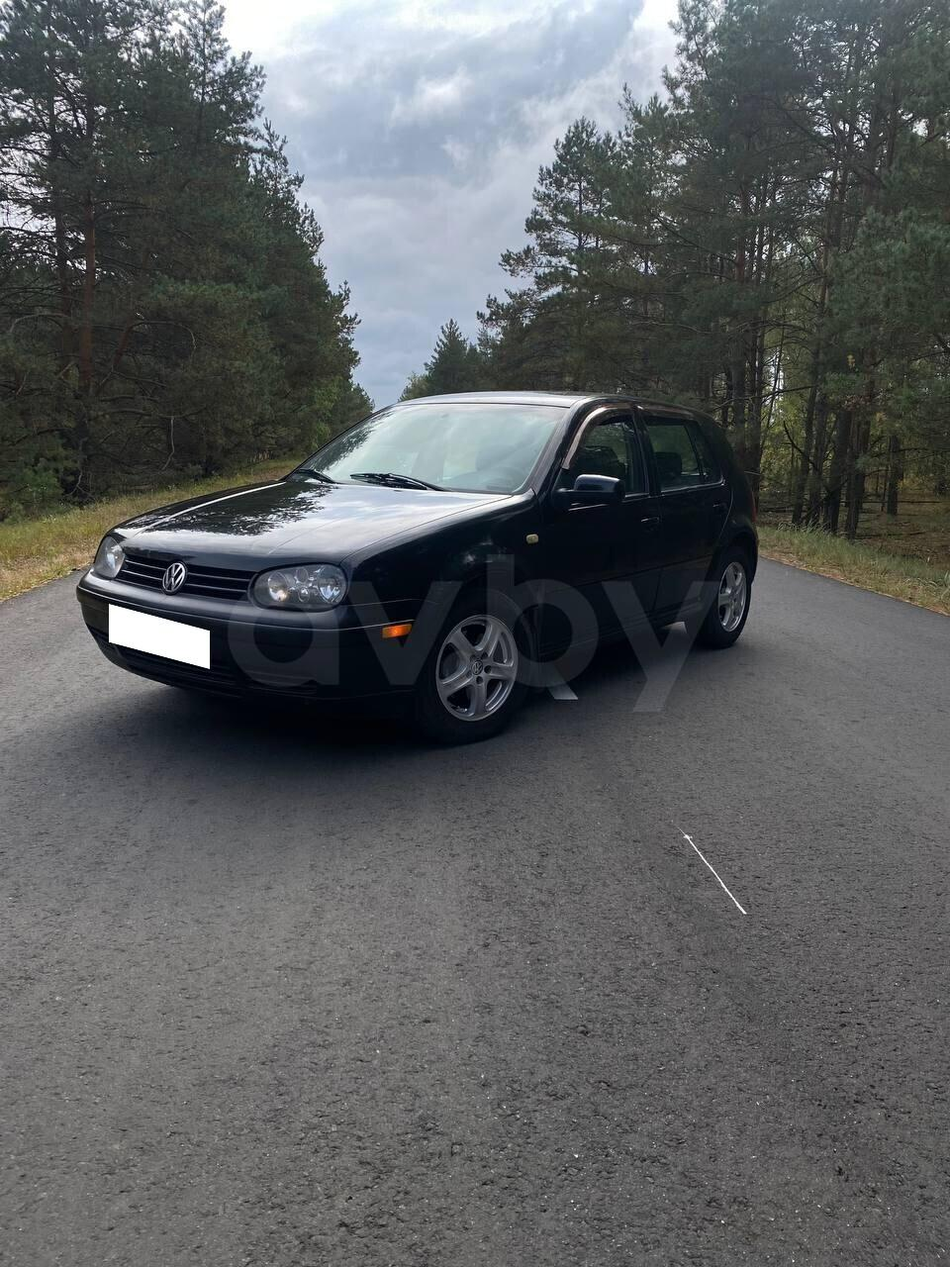Golf_1997-2006: (79, 372, 772, 754)
